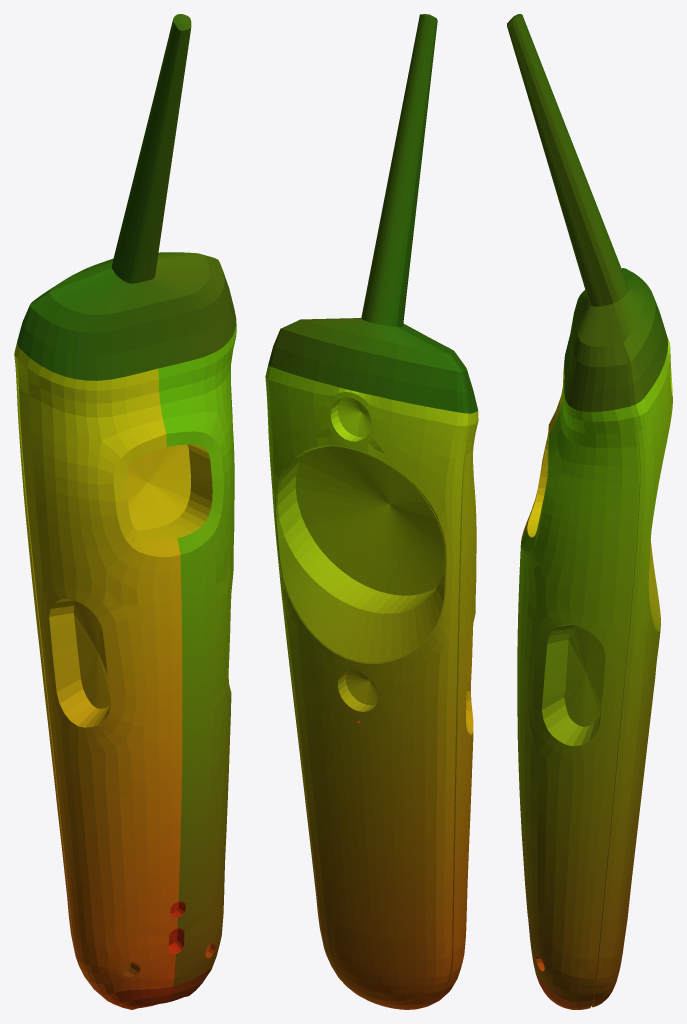
File: menu_controller_mesh.FBX
3 views of the same model, side by side, from view 1: azimuth 30°, elevation 25°; view 2: azimuth 150°, elevation 25°; view 3: azimuth 270°, elevation 25° (orthographic). The views are drawn at different scales.
Parts seen in each view (by area): view 1: Menu Controller Mesh; view 2: Menu Controller Mesh; view 3: Menu Controller Mesh.
Boxes of the visible parts, x1=… form: Menu Controller Mesh: x1=14, y1=14, x2=236, y2=1009; Menu Controller Mesh: x1=265, y1=14, x2=478, y2=1009; Menu Controller Mesh: x1=507, y1=14, x2=672, y2=1009.
Size of the model in its own units: 5.15 by 23.6 by 3.6.
